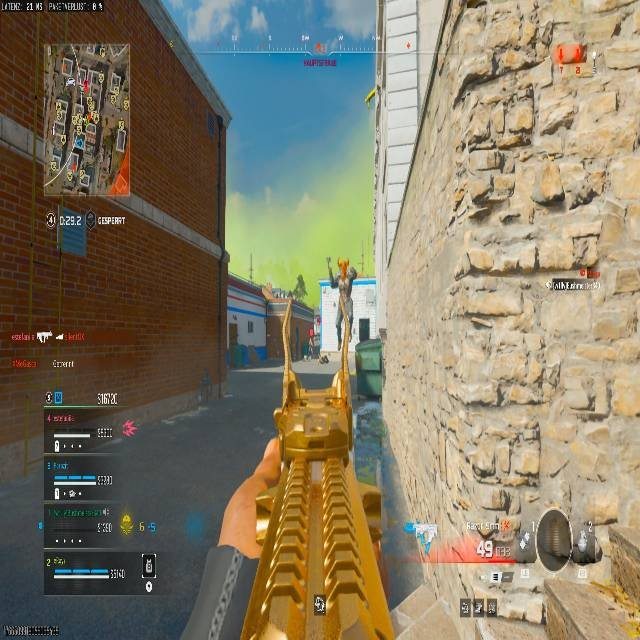head: (337, 256, 348, 270)
player: (331, 258, 357, 348)
